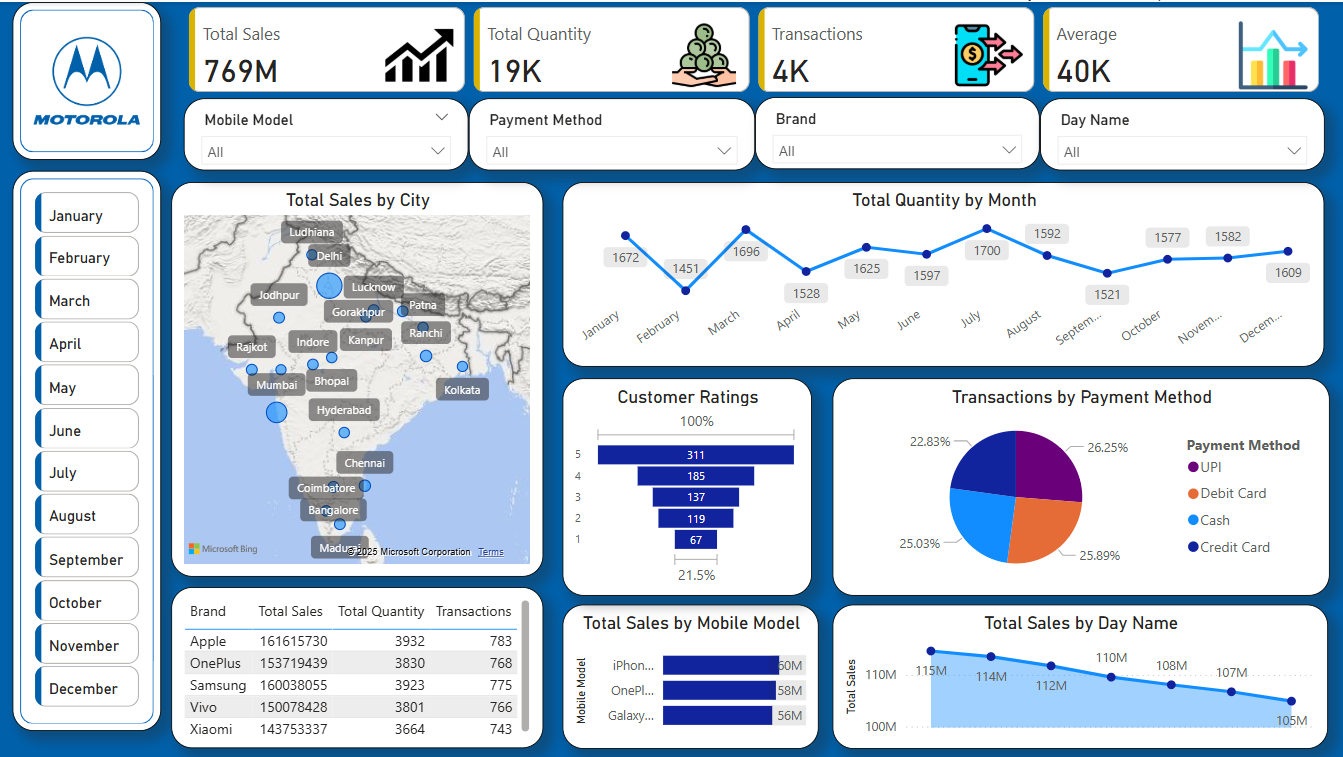

This screenshot's page, from the dashboard's own definition file:
{"tool":"powerbi","page":{"name":"Page 1","canvas":[1280,720],"ordinal":0},"visuals":[{"type":"shape","box":[11.9,0,141.7,150],"z":0},{"type":"image","box":[25,14.3,115.5,121.4],"z":1000},{"type":"shape","box":[12.3,160.5,141.3,533.8],"z":2000},{"type":"advancedSlicerVisual","fields":{"Values":["Mobile_Sales_Data.Date.Variation.Date Hierarchy.Month"]},"box":[28.8,175.6,109.8,505],"z":3000},{"type":"cardVisual","fields":{"Data":["Mobile_Sales_Data.Total Sales","Mobile_Sales_Data.Total Quantity","Mobile_Sales_Data.Transactions","Mobile_Sales_Data.Average"]},"box":[175,0,1065.5,91.7],"z":4000},{"type":"map","fields":{"Category":["Mobile_Sales_Data.City"],"Size":["Mobile_Sales_Data.Total Sales"]},"box":[163.3,171.5,354,376],"z":5000},{"type":"lineChart","fields":{"Category":["Mobile_Sales_Data.Date.Variation.Date Hierarchy.Month","Mobile_Sales_Data.Date.Variation.Date Hierarchy.Day"],"Y":["Mobile_Sales_Data.Total Quantity"]},"box":[535.2,171.5,725.9,175.6],"z":6000},{"type":"barChart","fields":{"Category":["Mobile_Sales_Data.Mobile Model"],"Y":["Mobile_Sales_Data.Total Sales"]},"box":[535.2,573.6,244.3,137.2],"z":7000},{"type":"pieChart","fields":{"Category":["Mobile_Sales_Data.Payment Method"],"Y":["Mobile_Sales_Data.Transactions"]},"box":[793.1,358.1,473.4,207.2],"z":8000},{"type":"funnel","title":"Customer Ratings ","fields":{"Category":["Mobile_Sales_Data.Customer Ratings"],"Y":["CountNonNull(Mobile_Sales_Data.Customer Ratings)"]},"box":[535.2,358.1,237.4,207.2],"z":9000},{"type":"areaChart","fields":{"Category":["Mobile_Sales_Data.Day Name"],"Y":["Mobile_Sales_Data.Total Sales"]},"box":[793.1,573.6,472,137.2],"z":10000},{"type":"tableEx","fields":{"Values":["Mobile_Sales_Data.Brand","Mobile_Sales_Data.Total Sales","Mobile_Sales_Data.Total Quantity","Mobile_Sales_Data.Transactions"]},"box":[163.3,557.1,354,153.7],"z":11000},{"type":"slicer","fields":{"Values":["Mobile_Sales_Data.Mobile Model"]},"box":[175,91.7,271.4,69],"z":12000},{"type":"slicer","fields":{"Values":["Mobile_Sales_Data.Payment Method"]},"box":[446.4,91.7,272.6,69],"z":13000},{"type":"slicer","fields":{"Values":["Mobile_Sales_Data.Brand"]},"box":[719.1,90.5,271.4,69],"z":14000},{"type":"slicer","fields":{"Values":["Mobile_Sales_Data.Day Name"]},"box":[990.5,91.7,271.4,69],"z":15000}]}

Visuals, with their boxes in screenshot pixels (x1, y1, x2, y2), scaled from the page's 1280x720 canvas onto the 1343x757 screenshot:
shape: [12, 0, 161, 158]
image: [26, 15, 147, 143]
shape: [13, 169, 161, 730]
advancedSlicerVisual - Mobile_Sales_Data.Date.Variation.Date Hierarchy.Month: [30, 185, 145, 716]
cardVisual - Mobile_Sales_Data.Total Sales x Mobile_Sales_Data.Total Quantity: [184, 0, 1302, 96]
map - Mobile_Sales_Data.City x Mobile_Sales_Data.Total Sales: [171, 180, 543, 576]
lineChart - Mobile_Sales_Data.Date.Variation.Date Hierarchy.Month x Mobile_Sales_Data.Date.Variation.Date Hierarchy.Day: [562, 180, 1323, 365]
barChart - Mobile_Sales_Data.Mobile Model x Mobile_Sales_Data.Total Sales: [562, 603, 818, 747]
pieChart - Mobile_Sales_Data.Payment Method x Mobile_Sales_Data.Transactions: [832, 377, 1329, 594]
"Customer Ratings " funnel: [562, 377, 811, 594]
areaChart - Mobile_Sales_Data.Day Name x Mobile_Sales_Data.Total Sales: [832, 603, 1327, 747]
tableEx - Mobile_Sales_Data.Brand x Mobile_Sales_Data.Total Sales: [171, 586, 543, 747]
slicer - Mobile_Sales_Data.Mobile Model: [184, 96, 468, 169]
slicer - Mobile_Sales_Data.Payment Method: [468, 96, 754, 169]
slicer - Mobile_Sales_Data.Brand: [754, 95, 1039, 168]
slicer - Mobile_Sales_Data.Day Name: [1039, 96, 1324, 169]
